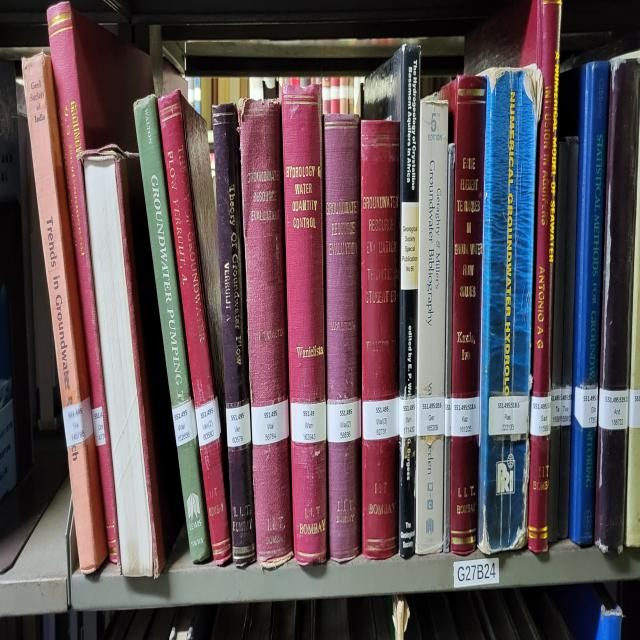Book: (48, 0, 154, 565), (466, 0, 561, 552), (22, 54, 106, 571), (134, 95, 210, 563), (159, 92, 231, 565), (478, 65, 542, 555), (364, 43, 420, 557), (239, 100, 294, 568), (281, 84, 328, 565), (595, 54, 640, 552), (441, 76, 486, 555), (212, 103, 256, 565), (569, 62, 609, 544), (361, 119, 400, 560), (324, 114, 361, 563), (415, 97, 449, 555), (548, 141, 568, 544), (559, 135, 579, 538)
Label: (251, 400, 289, 446), (489, 395, 529, 436), (62, 398, 94, 449), (362, 398, 399, 441), (291, 400, 326, 444), (326, 400, 361, 444), (599, 387, 629, 430), (195, 398, 221, 446), (172, 400, 198, 446), (451, 395, 479, 436), (226, 403, 251, 446), (574, 384, 598, 427), (418, 398, 444, 436), (530, 395, 551, 436), (399, 398, 416, 438), (91, 406, 106, 446), (561, 384, 572, 427), (551, 387, 561, 427)
